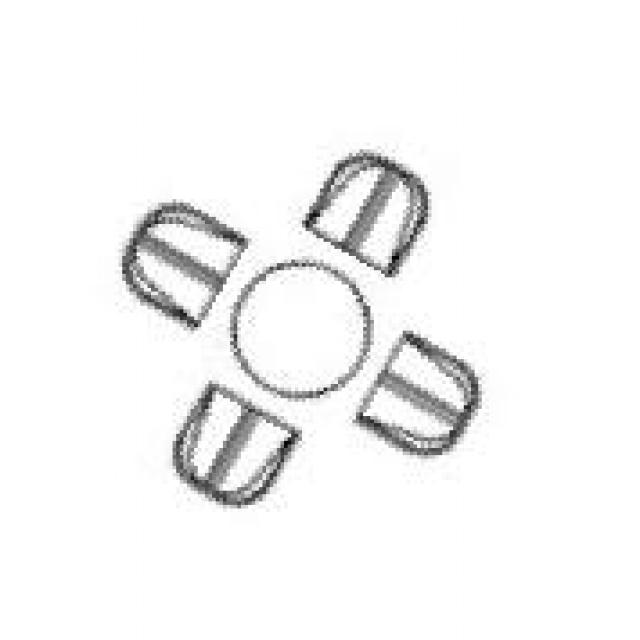table: (119, 146, 478, 512)
